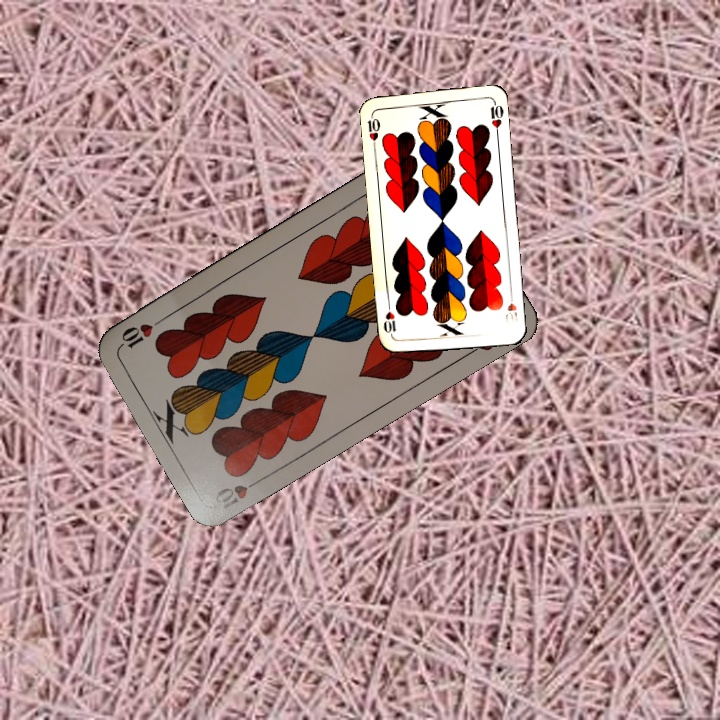H10: (211, 472, 267, 514), (363, 110, 383, 150), (501, 288, 520, 325)
